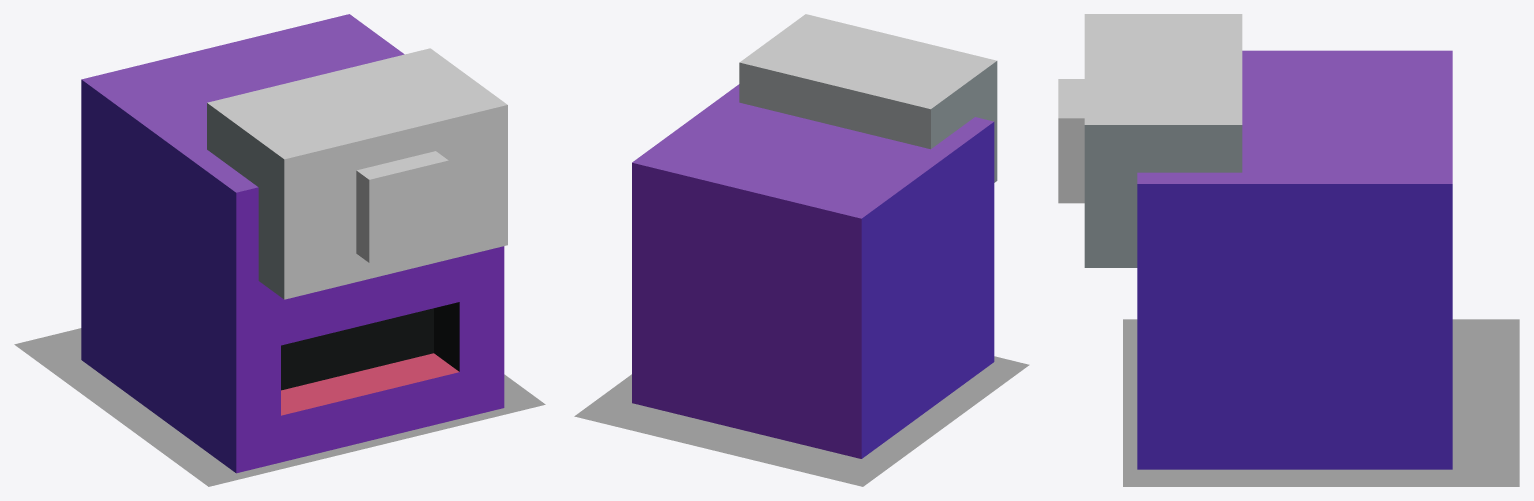
Rendered from EN_TinyBit_Purple.fbx.
3 views of the same model, side by side, from view 1: azimuth 30°, elevation 25°; view 2: azimuth 150°, elevation 25°; view 3: azimuth 270°, elevation 25° (orthographic). The views are drawn at different scales.
Parts seen in each view (by area): view 1: Body, Eye, Mouth, Shadow, Pupil; view 2: Body, Eye, Shadow; view 3: Body, Eye, Shadow, Pupil.
Part boxes in pixels (x1=…): Body: x1=81, y1=14, x2=504, y2=473; Eye: x1=207, y1=48, x2=507, y2=299; Mouth: x1=281, y1=353, x2=459, y2=462; Shadow: x1=14, y1=328, x2=545, y2=486; Pupil: x1=356, y1=151, x2=448, y2=262; Body: x1=632, y1=84, x2=994, y2=458; Eye: x1=739, y1=14, x2=997, y2=182; Shadow: x1=574, y1=356, x2=1029, y2=486; Body: x1=1137, y1=50, x2=1452, y2=469; Eye: x1=1084, y1=14, x2=1242, y2=267; Shadow: x1=1123, y1=319, x2=1519, y2=486; Pupil: x1=1058, y1=79, x2=1084, y2=203.
Size of the model in its own units: 37.73 by 35 by 43.86.
